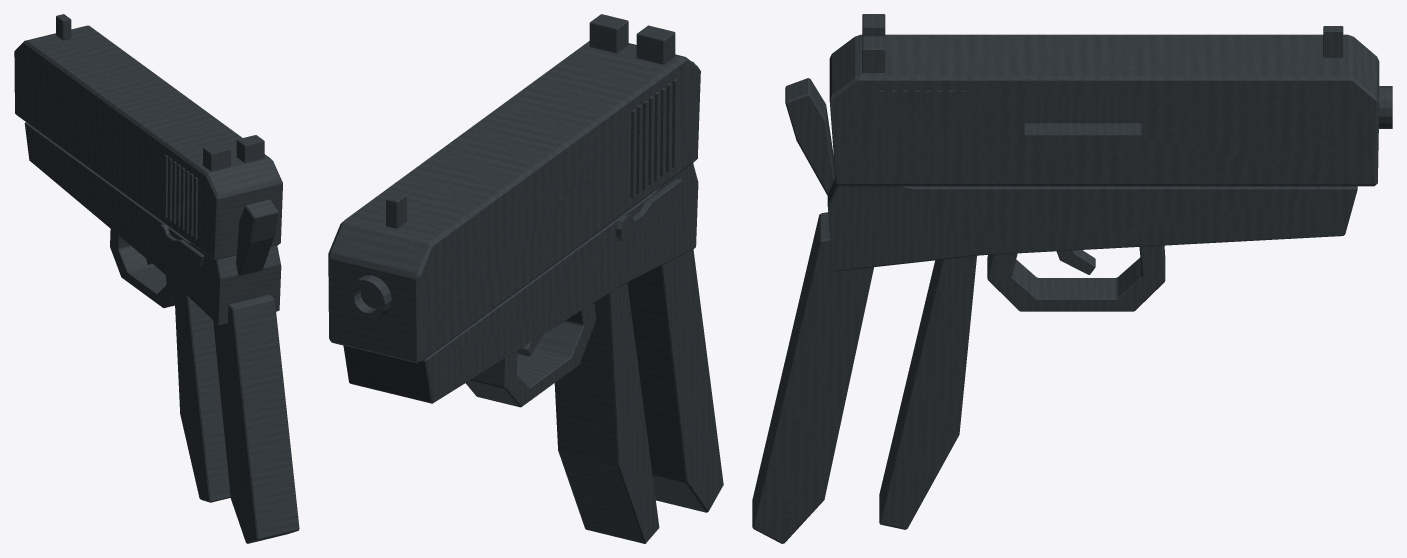
File: weapon_tt.glb
The picture shows the model from 3 angles, left to right: view 1: azimuth 30°, elevation 25°; view 2: azimuth 150°, elevation 25°; view 3: azimuth 270°, elevation 25°; orthographic projection. The views are drawn at different scales.
Visible parts, largest first — view 1: body_LOD0, action_LOD0; view 2: action_LOD0, body_LOD0; view 3: action_LOD0, body_LOD0.
Boxes of the visible parts, x1,y1,x2,y2 form: body_LOD0: (24, 122, 299, 543); action_LOD0: (14, 14, 282, 260); action_LOD0: (328, 14, 700, 363); body_LOD0: (343, 61, 723, 543); action_LOD0: (829, 14, 1379, 186); body_LOD0: (752, 78, 1392, 543).
Size of what is drawn, in the model's own units: 0.0664 by 0.3365 by 0.3888.
Materials: 1 (1 with a texture image).
